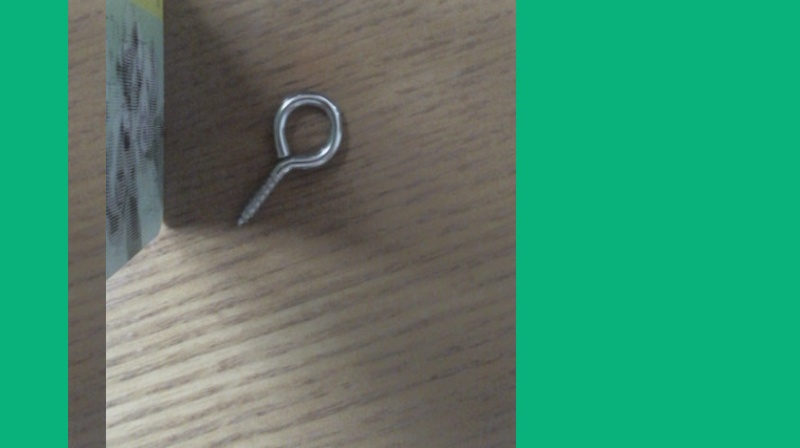O001: (230, 86, 347, 230)
